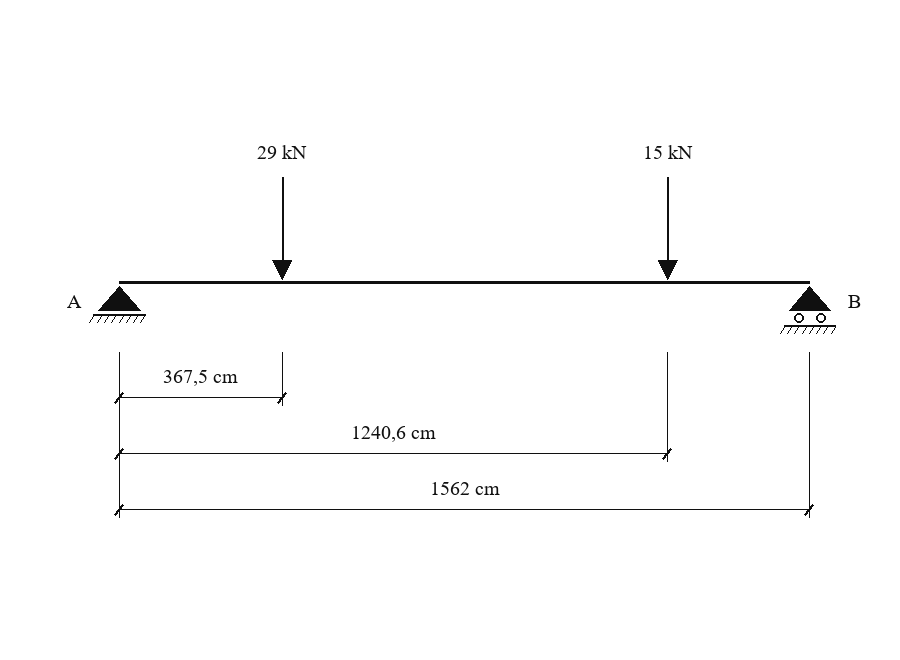pin_support: (89, 286, 146, 323)
point_load: (272, 177, 292, 280), (658, 177, 678, 280)
roller_support: (780, 286, 836, 334)
